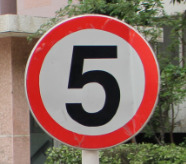speed_limit_5: (24, 14, 160, 150)
